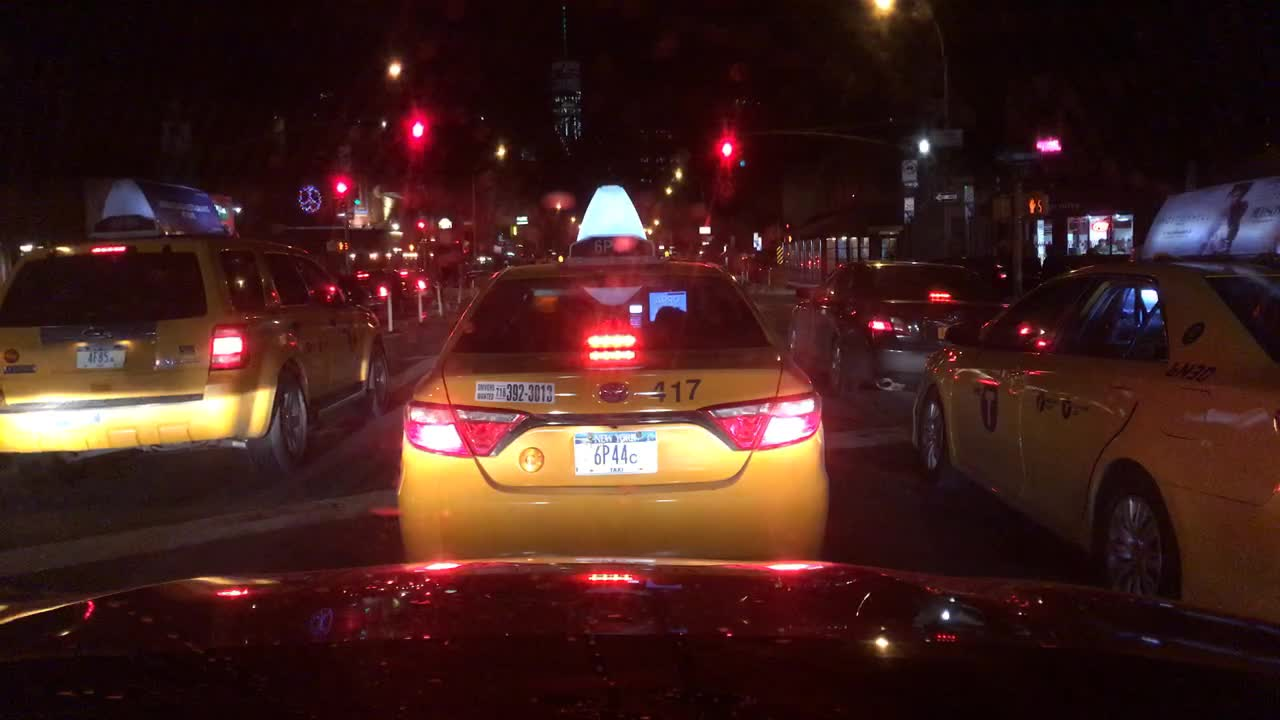car: (396, 183, 833, 570), (910, 174, 1277, 627), (0, 181, 393, 475), (783, 259, 1001, 398), (457, 252, 519, 285), (353, 271, 398, 314), (398, 267, 434, 309), (971, 259, 1010, 296)
person: (1039, 242, 1059, 276), (1021, 242, 1037, 278)
traffic light: (718, 137, 736, 170), (1025, 192, 1048, 217), (738, 137, 749, 170), (409, 122, 421, 147), (332, 176, 344, 199), (416, 214, 425, 235)
traffic sign: (1001, 149, 1066, 163), (924, 126, 964, 145), (899, 161, 922, 188), (962, 185, 976, 222), (933, 192, 962, 203)
